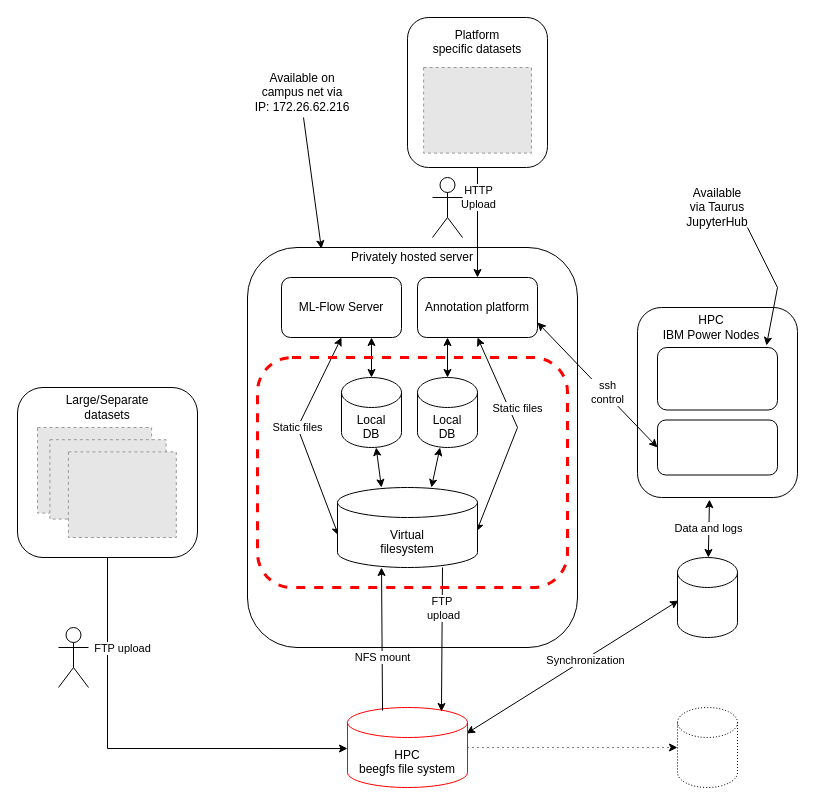
Some shapes in this 815 by 805 pixel diagram are drawn without their labels. Grey dashed boxes stand in for pictures. Each missing label, with the centre of its shape:
"2TB NVMe" goes at point (707, 597).
"ML Inference" goes at point (717, 447).
"ML Training" goes at point (717, 378).
"Tape storage" goes at point (707, 747).
